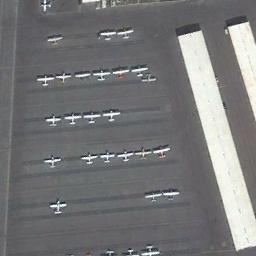Airplane: (44, 27, 65, 48), (152, 145, 177, 159), (46, 112, 63, 130), (140, 70, 159, 86), (83, 110, 102, 126), (117, 27, 137, 42), (138, 244, 162, 256), (97, 30, 117, 44), (36, 74, 56, 88), (102, 108, 122, 122), (48, 202, 68, 216), (80, 151, 100, 164), (45, 155, 65, 168), (64, 113, 83, 126), (40, 0, 56, 15), (110, 66, 130, 78), (74, 70, 92, 83), (162, 188, 180, 201), (100, 149, 116, 163), (117, 149, 134, 162), (92, 70, 110, 82), (58, 72, 72, 86), (136, 148, 152, 160), (144, 192, 161, 202), (134, 64, 146, 76)
